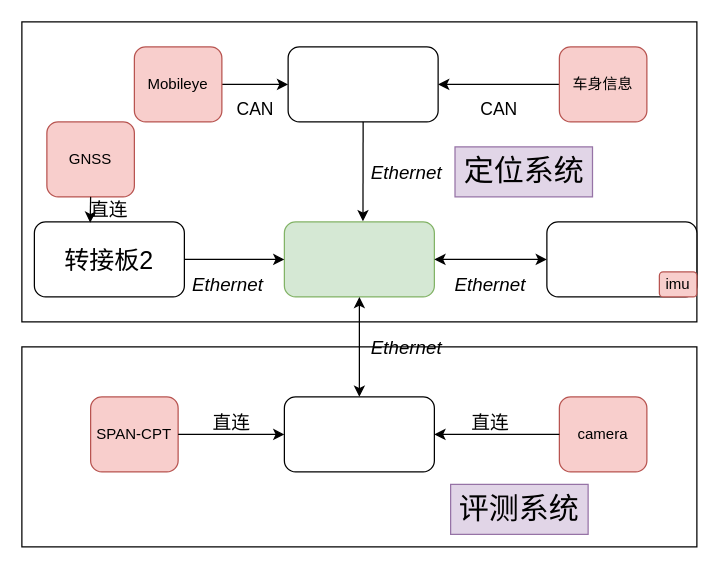
Image size: 719x569. Some labels were removed from this diagram. Each missing label, with the box of its shape:
px2: (283, 396, 434, 472)
恒润硬件: (546, 221, 697, 297)
路由器: (283, 221, 434, 297)
转接板1: (287, 46, 438, 122)
